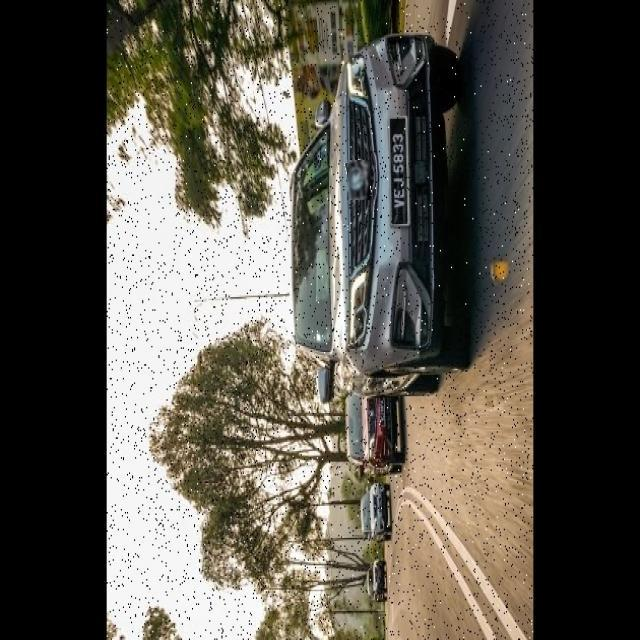Proton: (347, 160, 370, 200)
